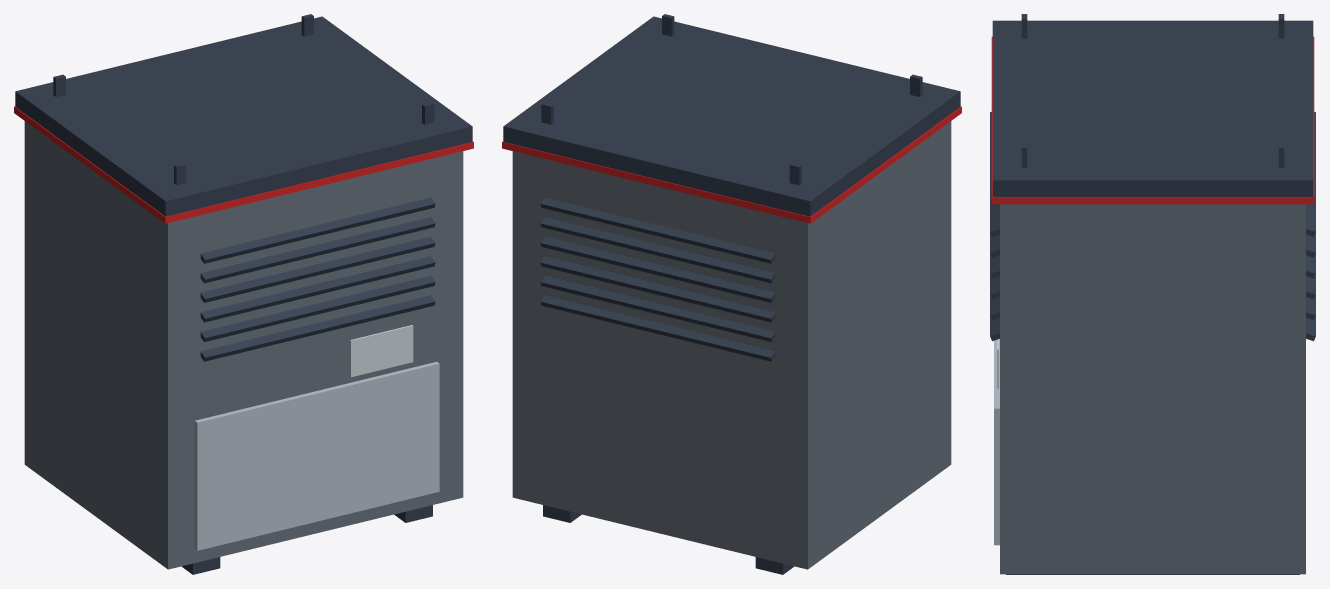
The picture shows the model from 3 angles, left to right: view 1: azimuth 30°, elevation 25°; view 2: azimuth 150°, elevation 25°; view 3: azimuth 270°, elevation 25°; orthographic projection. The views are drawn at different scales.
Parts seen in each view (by area): view 1: cad-transformer; view 2: cad-transformer; view 3: cad-transformer.
Part boxes in pixels (bbox=[...]): cad-transformer: bbox=[14, 14, 473, 574]; cad-transformer: bbox=[502, 14, 961, 574]; cad-transformer: bbox=[990, 14, 1315, 574].
Bounding box in the file's own units: 0.794 × 0.995 × 0.6808.
